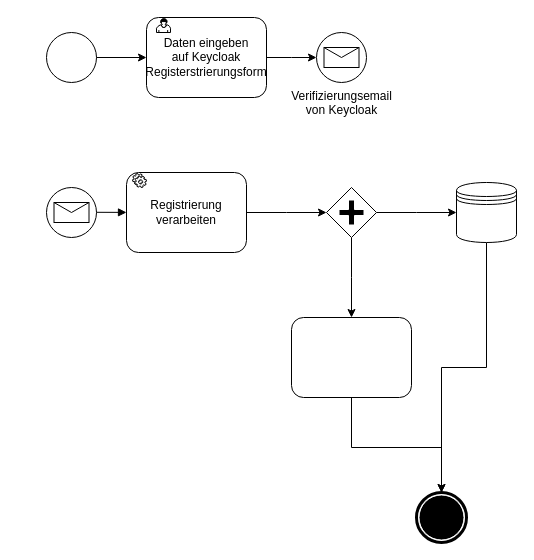
This 534x560 diagram has some shape labels left out. The centre of each missing label's shape, as x and y in pixels:
"Registierungsbeginn" goes at point 71,57.
"User hat Zugriff auf die Website" goes at point 351,357.
